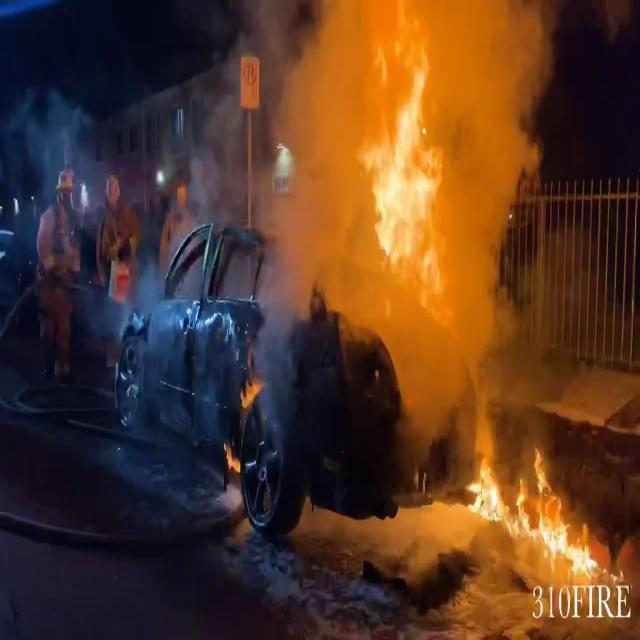Fire: (355, 23, 444, 255), (471, 443, 597, 583)
Smoke: (245, 0, 570, 452)
